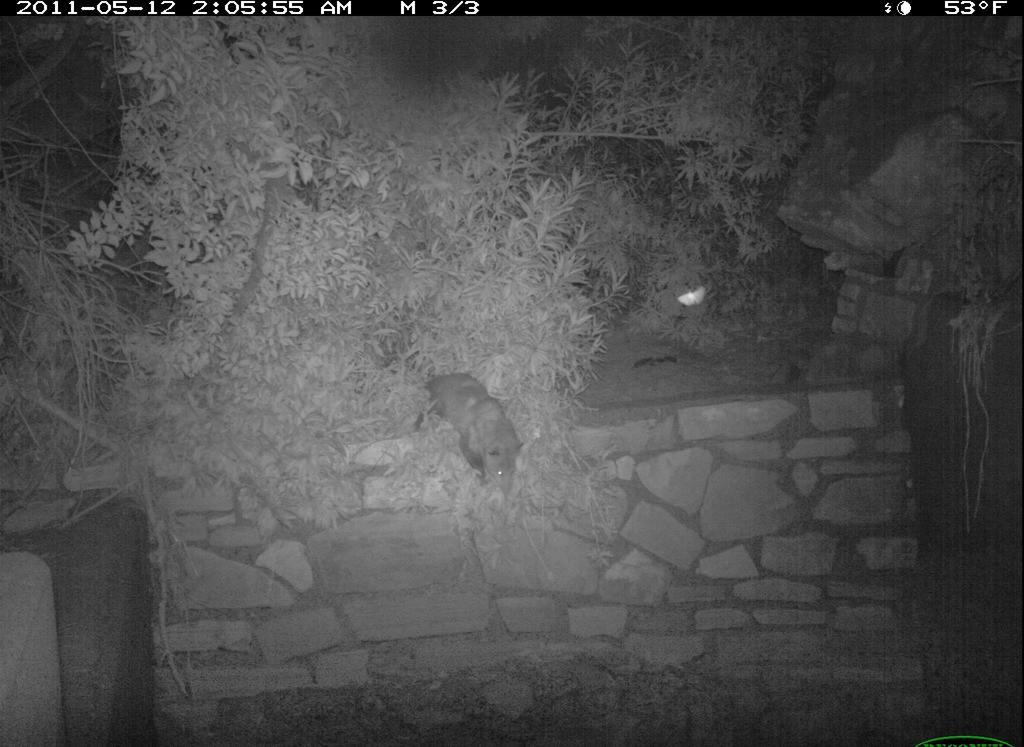opossum: (402, 368, 533, 492)
